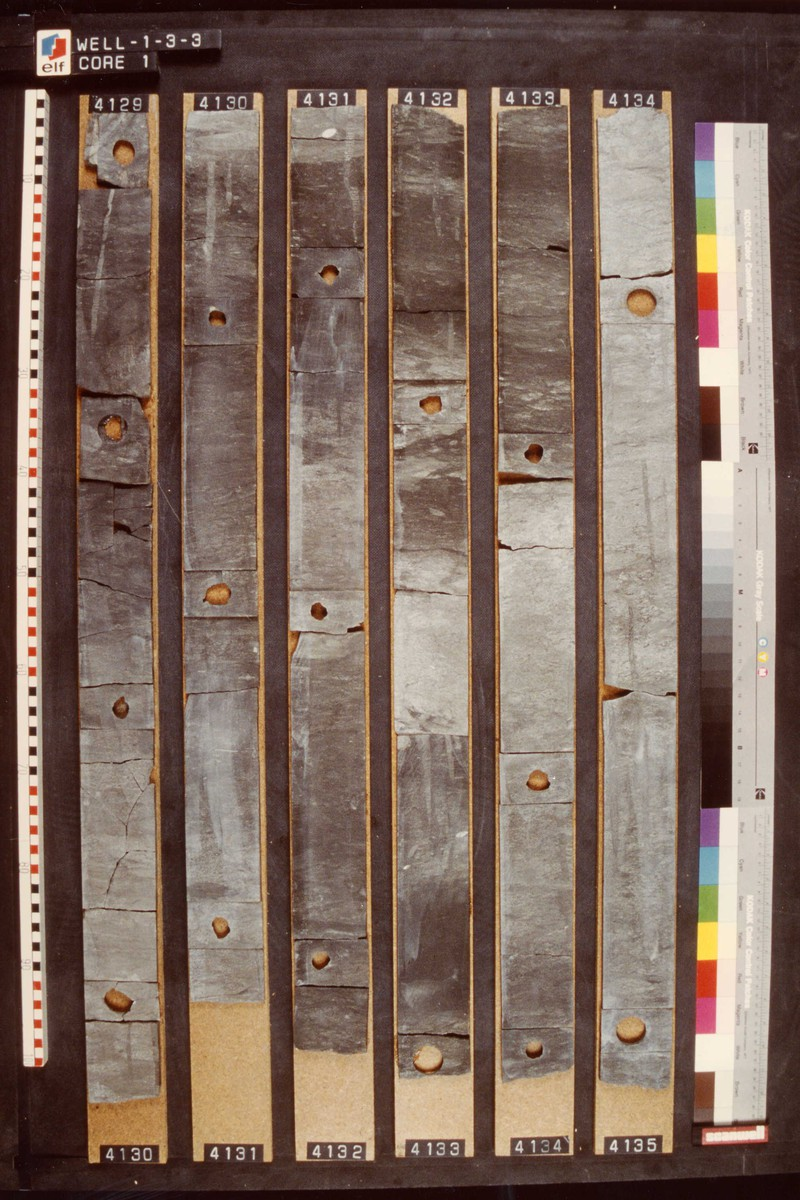core: (593, 108, 678, 1084), (389, 105, 474, 1075), (79, 114, 160, 1104), (286, 108, 370, 1054), (182, 111, 266, 1004), (499, 110, 576, 1079)
